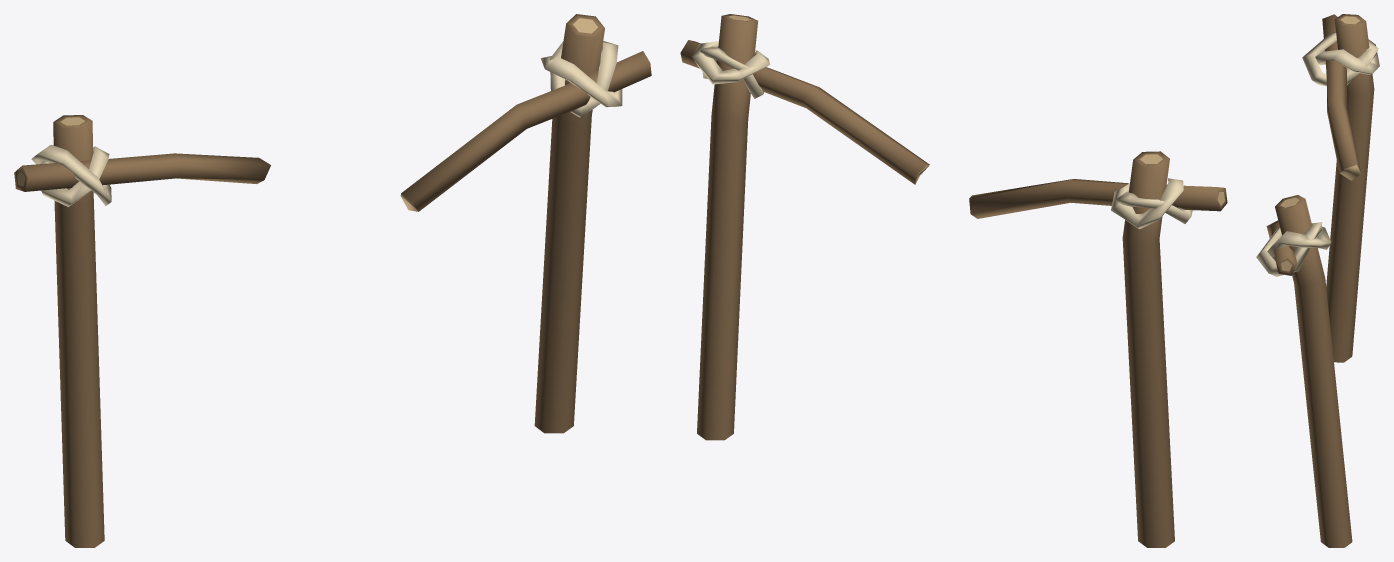
The model's file is rpgpp_av_hanger_wood_01a.gltf.
3 renders of one model, left to right at view 1: azimuth 30°, elevation 25°; view 2: azimuth 150°, elevation 25°; view 3: azimuth 270°, elevation 25°, orthographic. The views are drawn at different scales.
Parts seen in each view (by area): view 1: rpgpp_av_hanger_wood_01a; view 2: rpgpp_av_hanger_wood_01a; view 3: rpgpp_av_hanger_wood_01a.
Boxes of the visible parts, x1,y1,x2,y2 form: rpgpp_av_hanger_wood_01a: [14, 14, 651, 547]; rpgpp_av_hanger_wood_01a: [680, 14, 1227, 547]; rpgpp_av_hanger_wood_01a: [1256, 14, 1379, 547].
Bounding box in the file's own units: 0.0331 × 0.0224 × 0.00729.
1 material, 1 textured.
